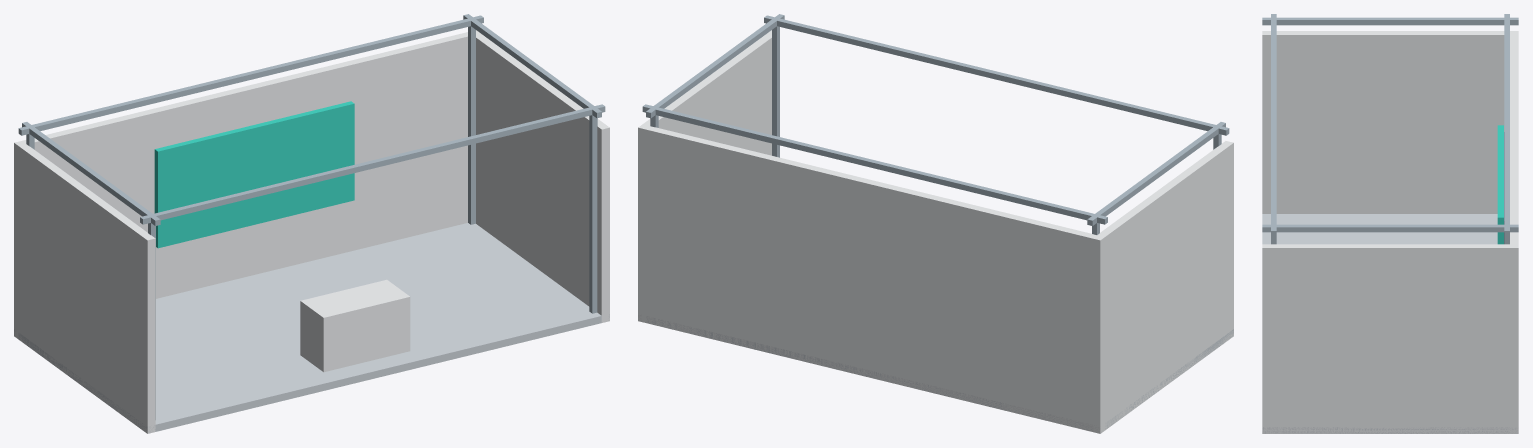
3 renders of one model, left to right at view 1: azimuth 30°, elevation 25°; view 2: azimuth 150°, elevation 25°; view 3: azimuth 270°, elevation 25°, orthographic. The views are drawn at different scales.
Parts seen in each view (by area): view 1: Exhibition Booth Concept; view 2: Exhibition Booth Concept; view 3: Exhibition Booth Concept.
Part boxes in pixels (bbox=[...]): Exhibition Booth Concept: bbox=[14, 14, 609, 433]; Exhibition Booth Concept: bbox=[638, 14, 1233, 433]; Exhibition Booth Concept: bbox=[1262, 14, 1518, 433].
Bounding box in the file's own units: 8 × 3.49 × 4.
